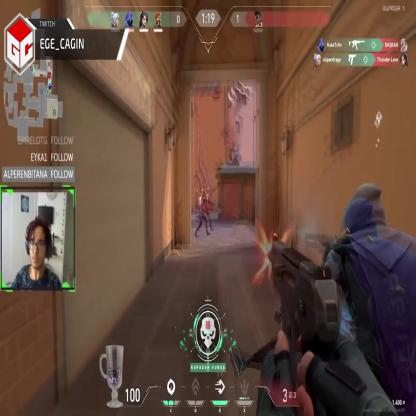enemy: (198, 187, 211, 236)
enemy_head: (203, 188, 206, 195)
